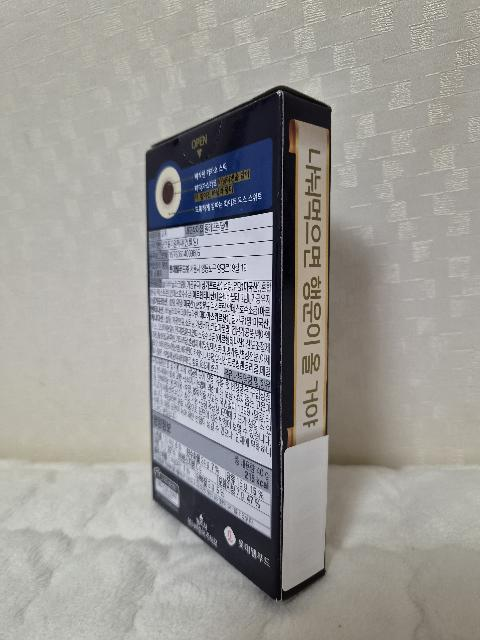pepero: (146, 85, 332, 602)
